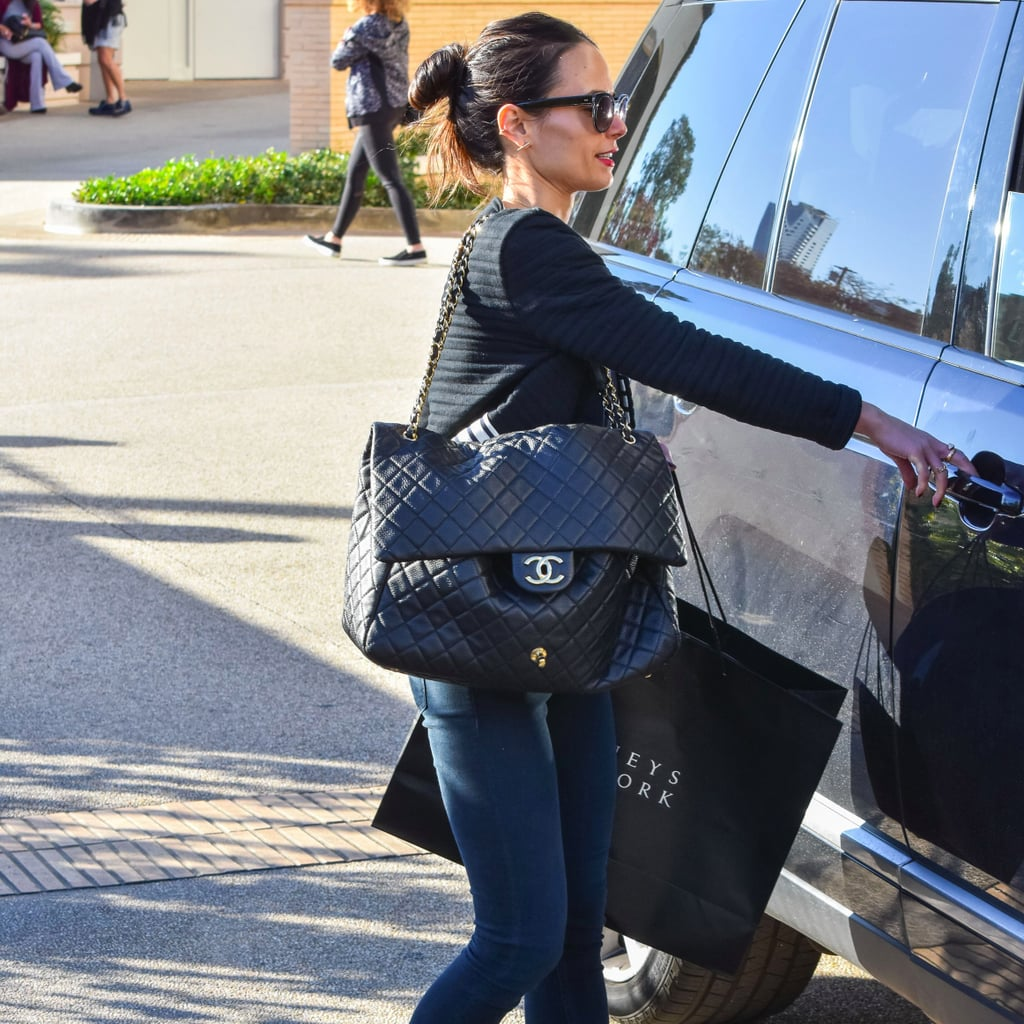channel: (324, 399, 723, 685), (399, 361, 462, 467), (512, 542, 595, 610)
